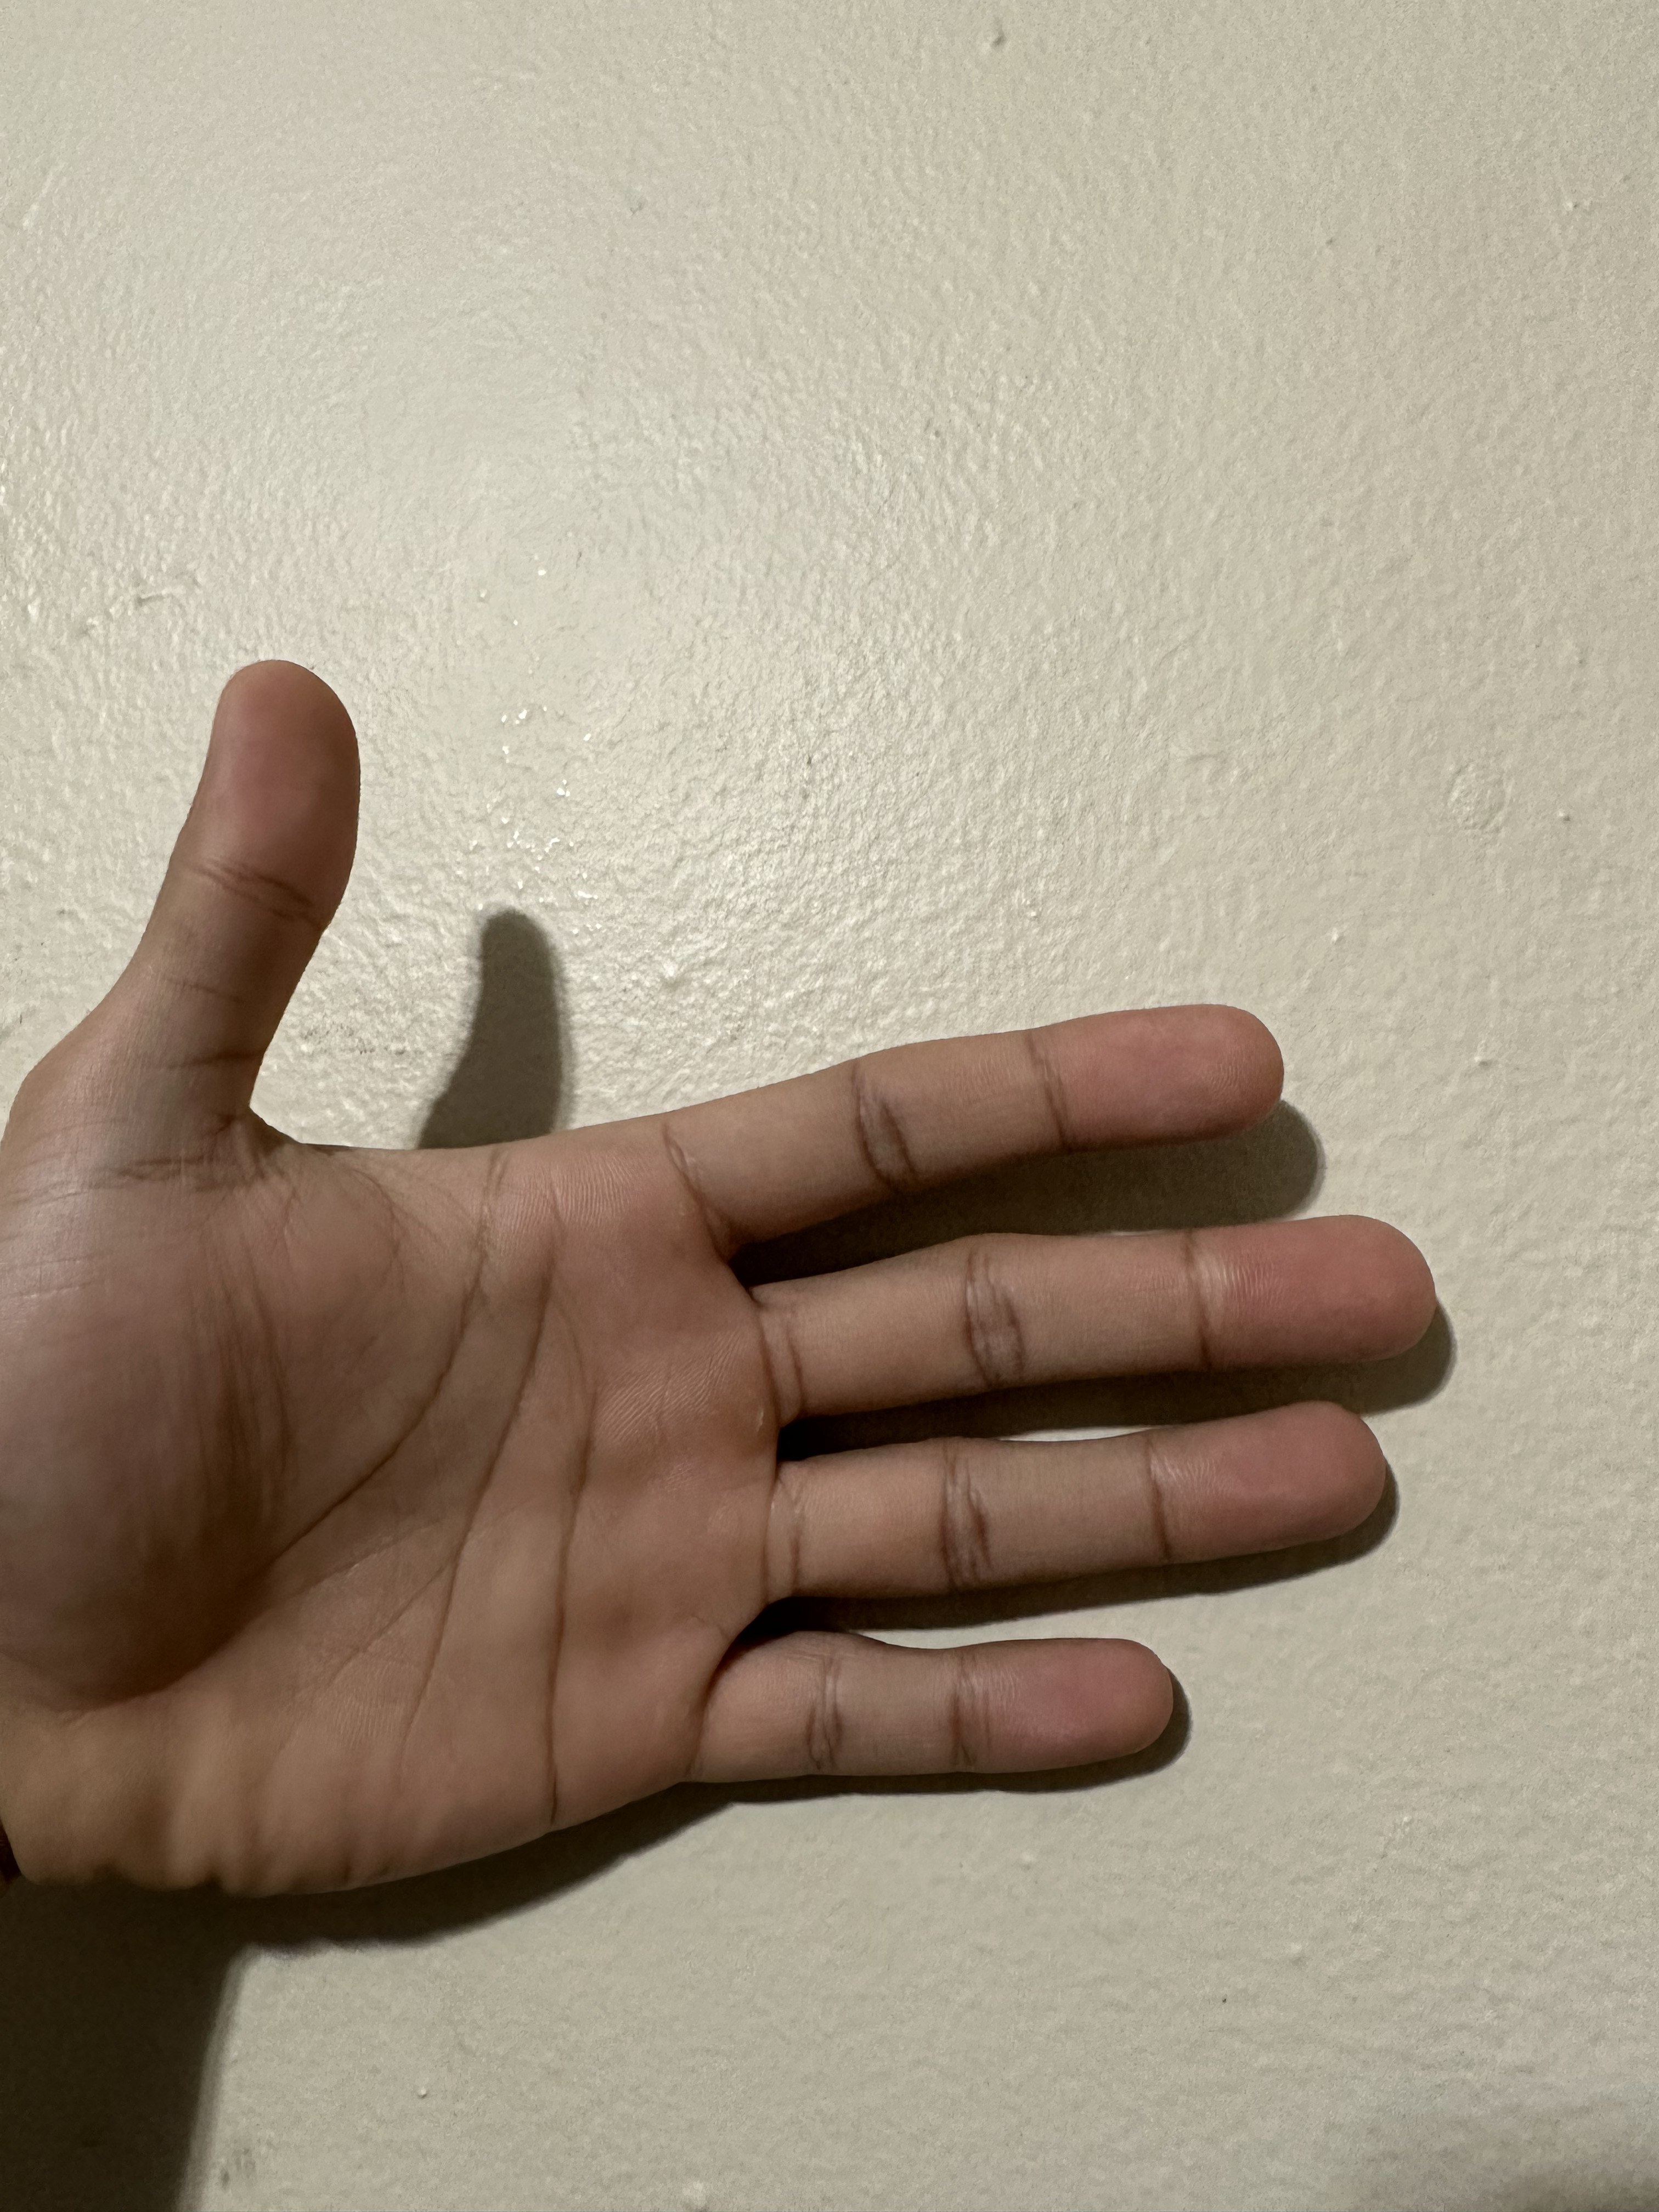finger: (169, 618, 399, 914), (1180, 1191, 1476, 1397), (1019, 967, 1326, 1160), (1140, 1400, 1441, 1594), (953, 1620, 1220, 1806)
